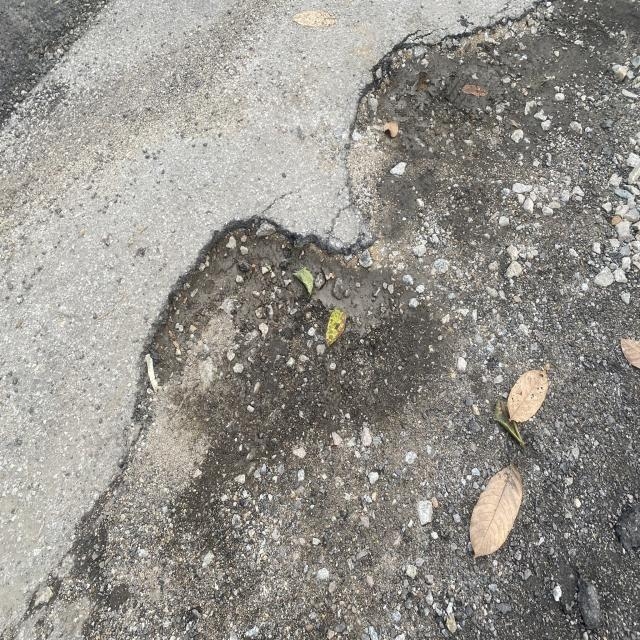pothole: (86, 206, 351, 403), (299, 12, 485, 156)
